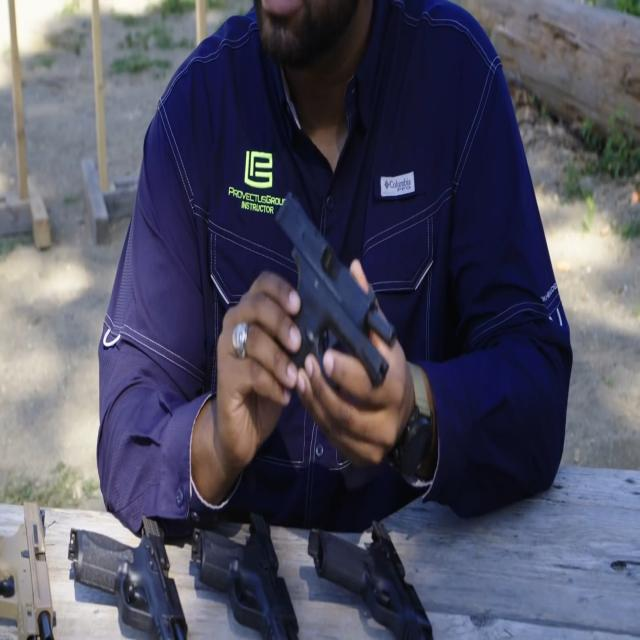handgun: (267, 175, 401, 399), (298, 498, 456, 639), (66, 487, 193, 639), (190, 506, 314, 640), (0, 501, 68, 639)
